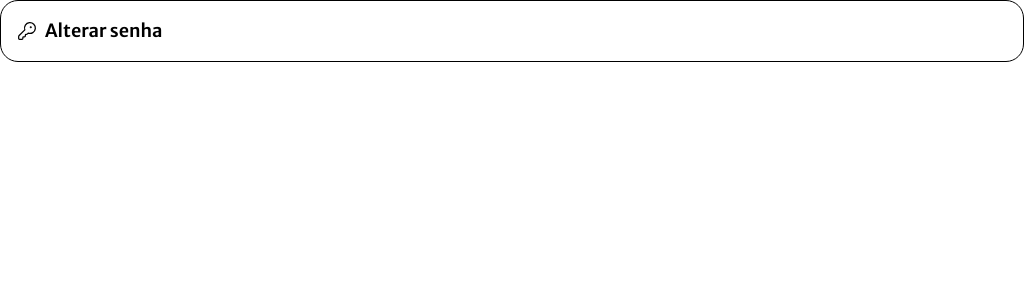
Test case: ProfilePasswordForm › is collapsed by default and expands on title click
The image size is (1024, 307).
Click the button "Alterar senha".
click(104, 30)  # box [17,17,1007,45]
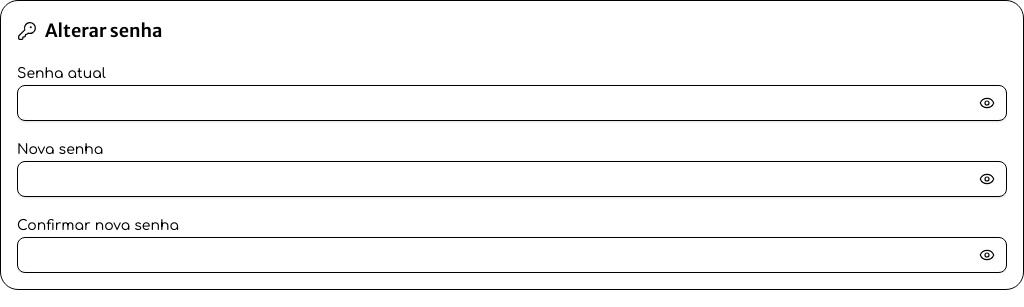
Now the field labelled "Senha atual" is enabled, box [17,85,1007,121]
